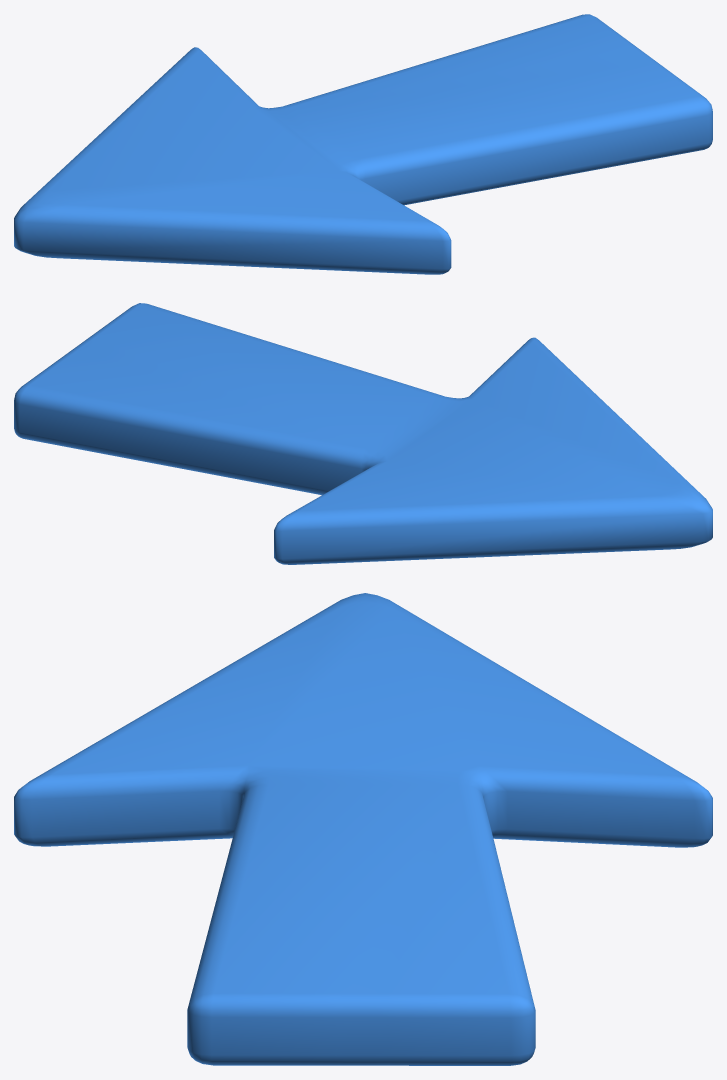
Rendered from mirrow.glb.
3 views of the same model, one above another, from view 1: azimuth 30°, elevation 25°; view 2: azimuth 150°, elevation 25°; view 3: azimuth 270°, elevation 25° (orthographic). The views are drawn at different scales.
Parts seen in each view (by area): view 1: Arrow; view 2: Arrow; view 3: Arrow.
Boxes of the visible parts, box(x1,y1,x2,y2) form: Arrow: box(14, 14, 712, 274); Arrow: box(14, 303, 712, 564); Arrow: box(14, 593, 712, 1065).
Size of the model in its own units: 3.01 by 0.2343 by 2.11.
